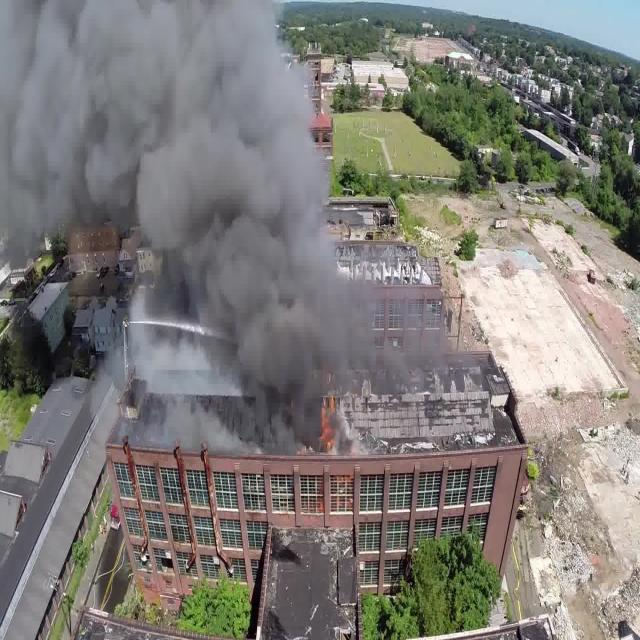Smoke: (0, 0, 358, 462)
